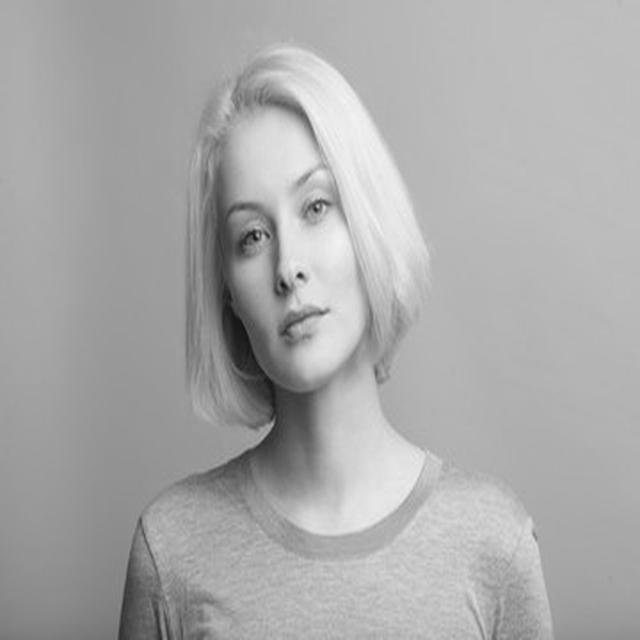Neutral: (218, 107, 369, 393)
